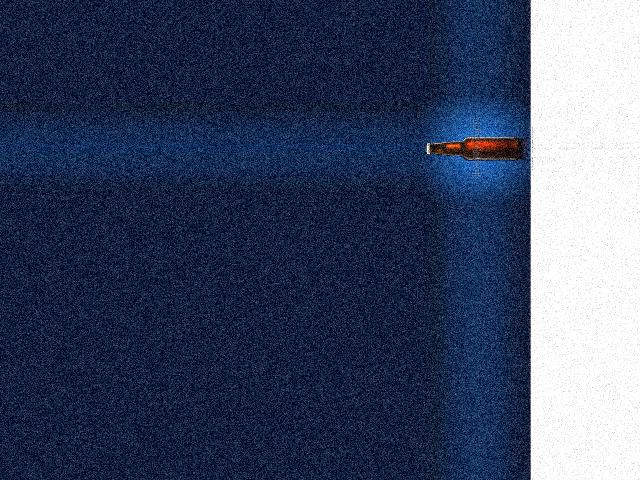beer: (426, 137, 519, 161)
